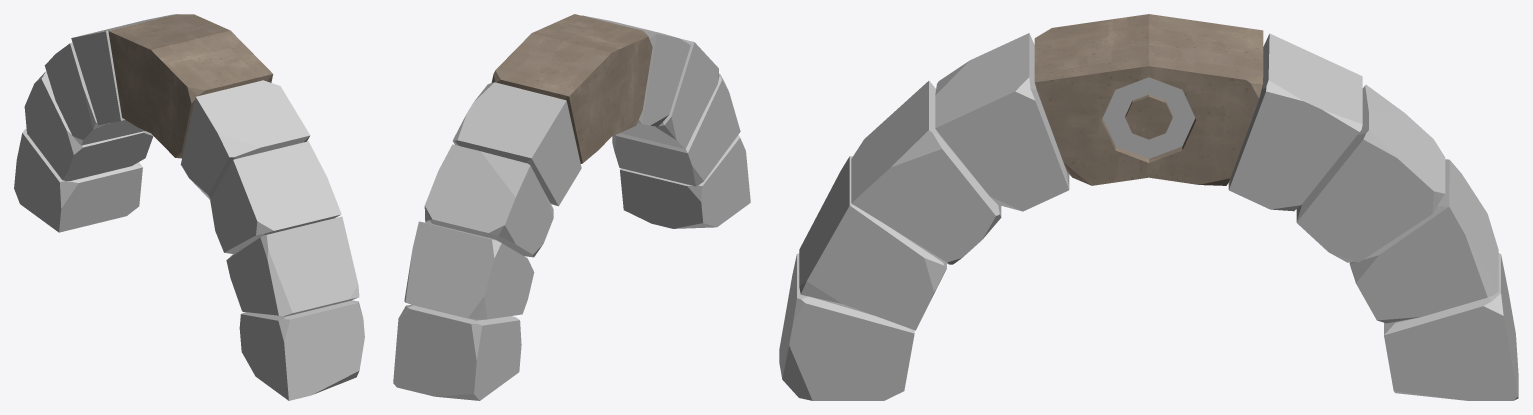
The model's file is Deco_1.fbx.
3 views of the same model, side by side, from view 1: azimuth 30°, elevation 25°; view 2: azimuth 150°, elevation 25°; view 3: azimuth 270°, elevation 25° (orthographic). The views are drawn at different scales.
Visible parts, largest first — view 1: _Deco_1; view 2: _Deco_1; view 3: _Deco_1.
Boxes of the visible parts, left/top/right/bottom form: _Deco_1: left=14, top=14, right=364, bottom=400; _Deco_1: left=393, top=14, right=750, bottom=400; _Deco_1: left=779, top=14, right=1518, bottom=400.
Size of the model in its own units: 100 by 300 by 600.
